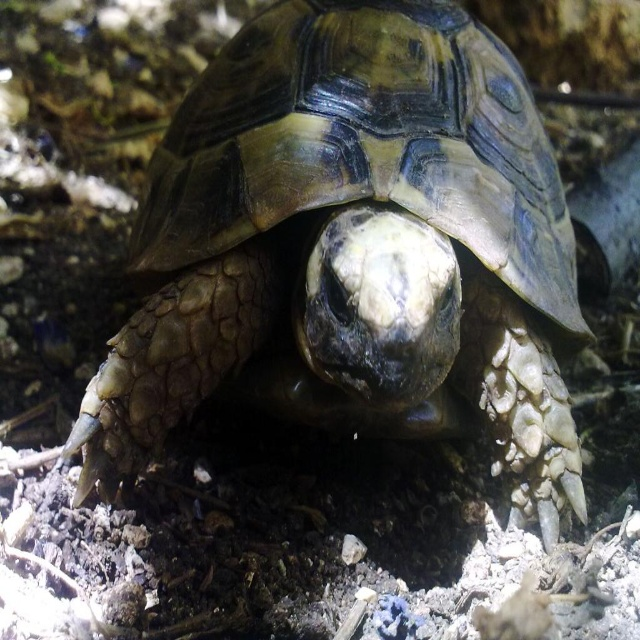Sea turtle: (61, 0, 596, 557)
